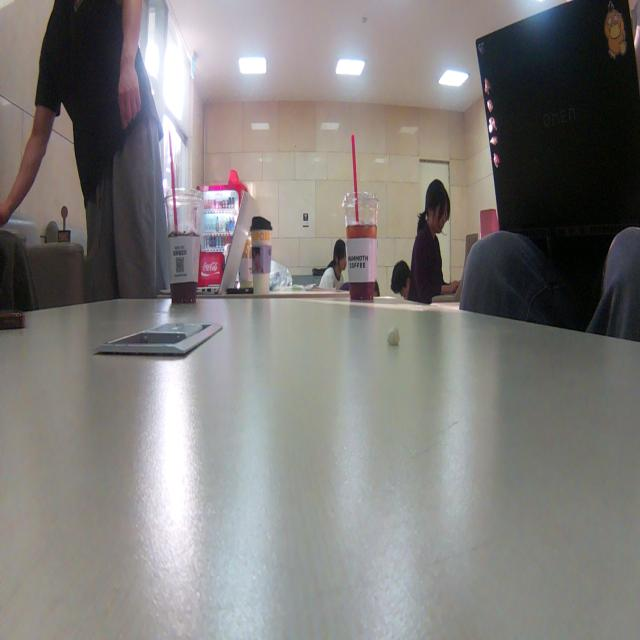target: (58, 205, 71, 244)
